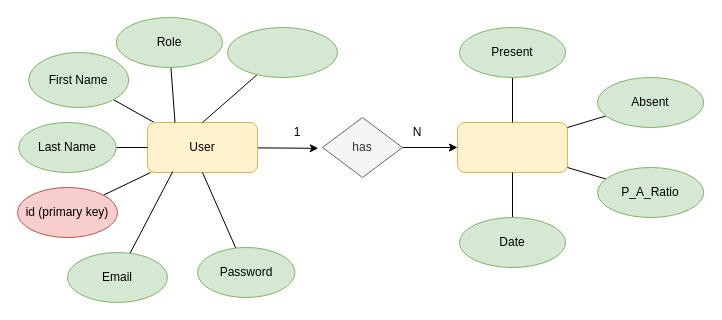
This 722x320 diagram has some shape labels left out. The shapes that lost their labels are listed below. From the top down, each one's centre as x and y in pixels, then its label:
At [282,52]: "Username".
At [512,147]: "Attendance".
